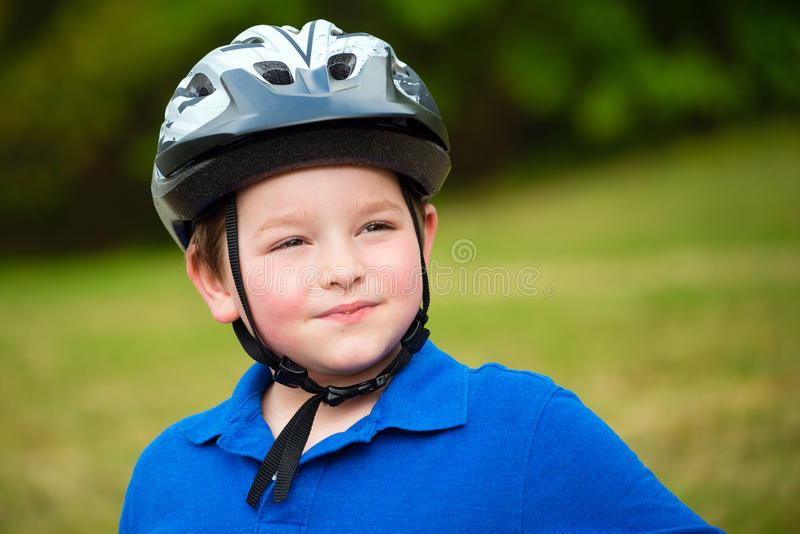helmet: (150, 18, 451, 408)
